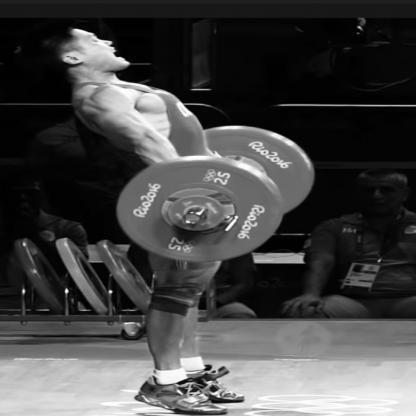barbell: (116, 123, 315, 262)
